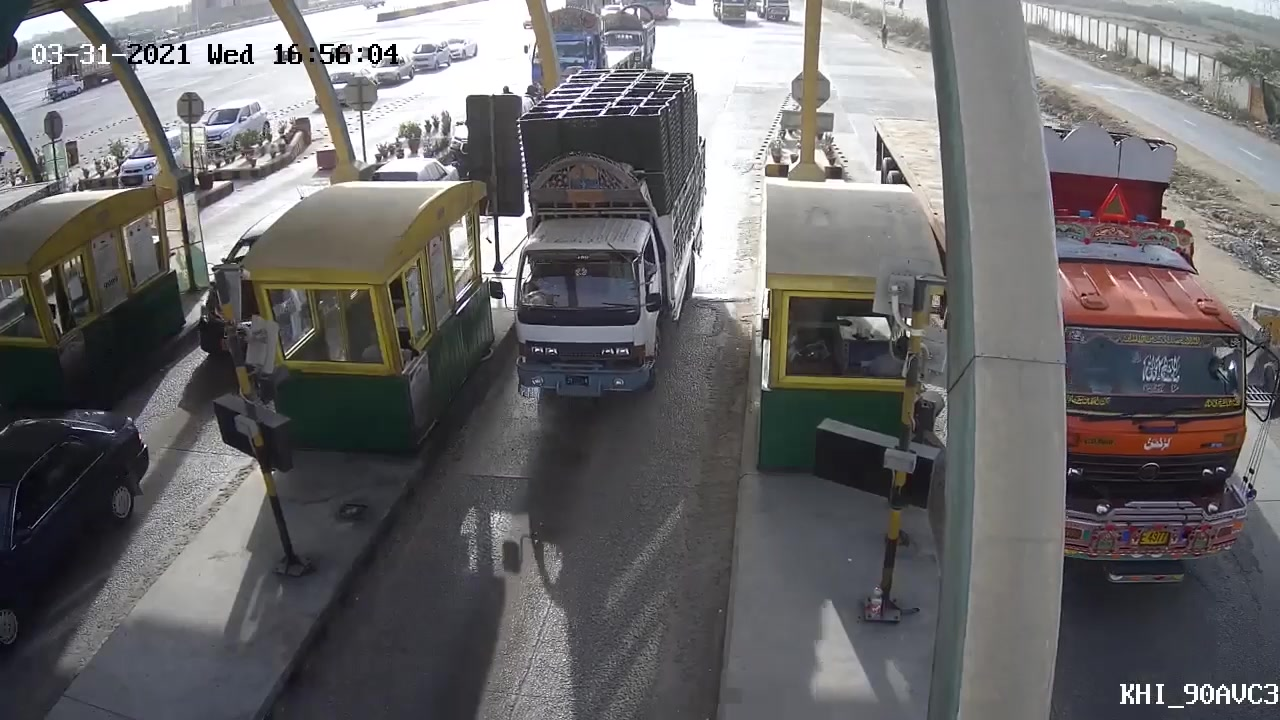F5: (476, 64, 714, 414)
